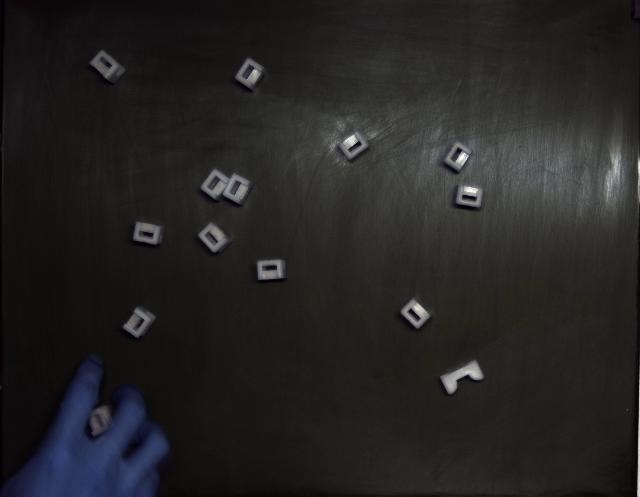fourth_side: (90, 50, 125, 84), (122, 306, 156, 339), (200, 168, 232, 202), (235, 58, 266, 91), (199, 222, 232, 253), (222, 174, 254, 205), (400, 299, 430, 329), (339, 131, 369, 160), (444, 141, 472, 172), (132, 221, 165, 245), (456, 185, 484, 208), (258, 260, 286, 281)
third_side: (440, 360, 484, 395)
